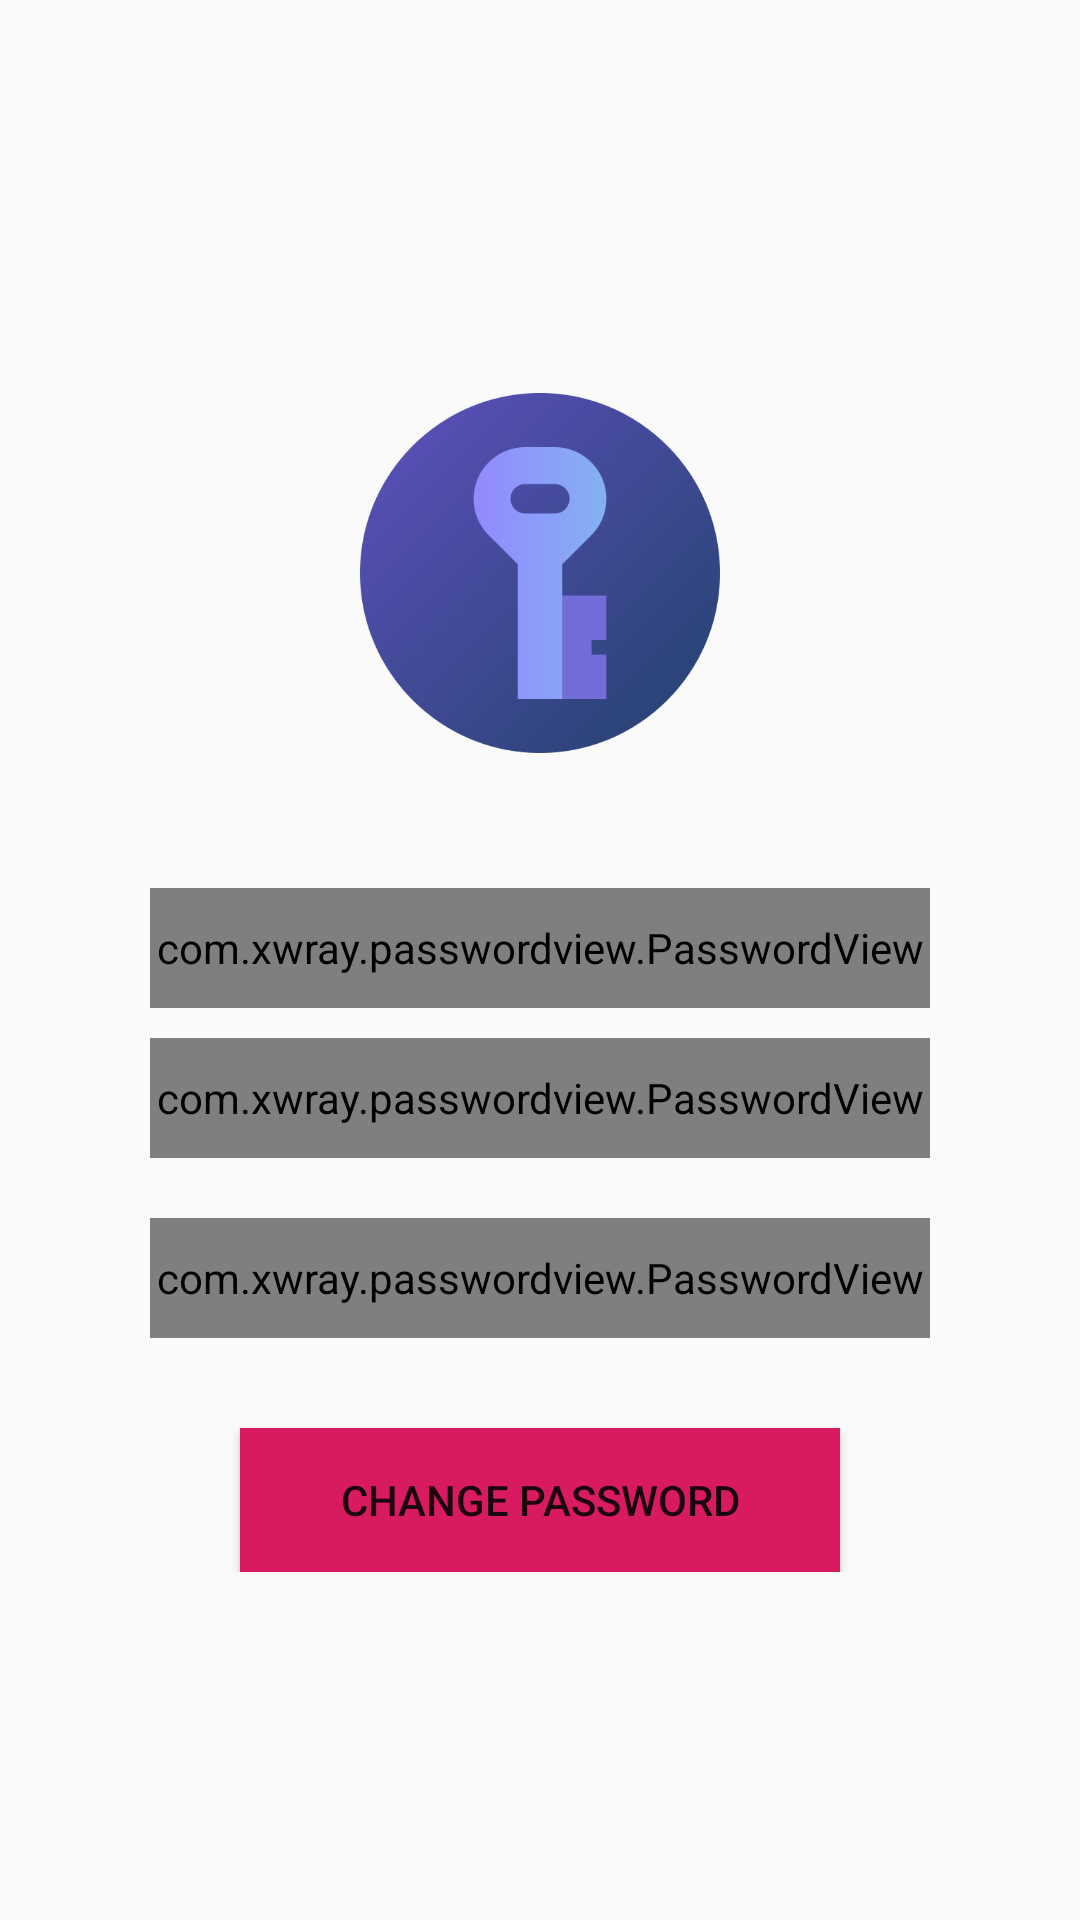

Where to tap for icons on this 1080 x 1920 app screen, as (x=x, y=y):
key: (x=540, y=573)
